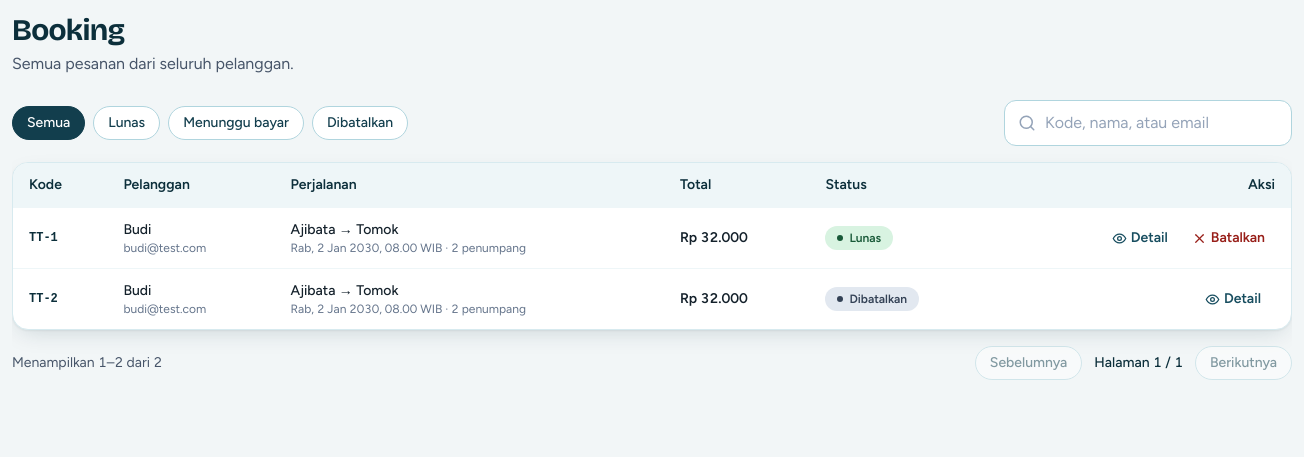
AdminBookingsPage › batalkan gagal menampilkan pesan error
Click the button "Batalkan".
click(1228, 238)  # box [1182,222,1275,254]
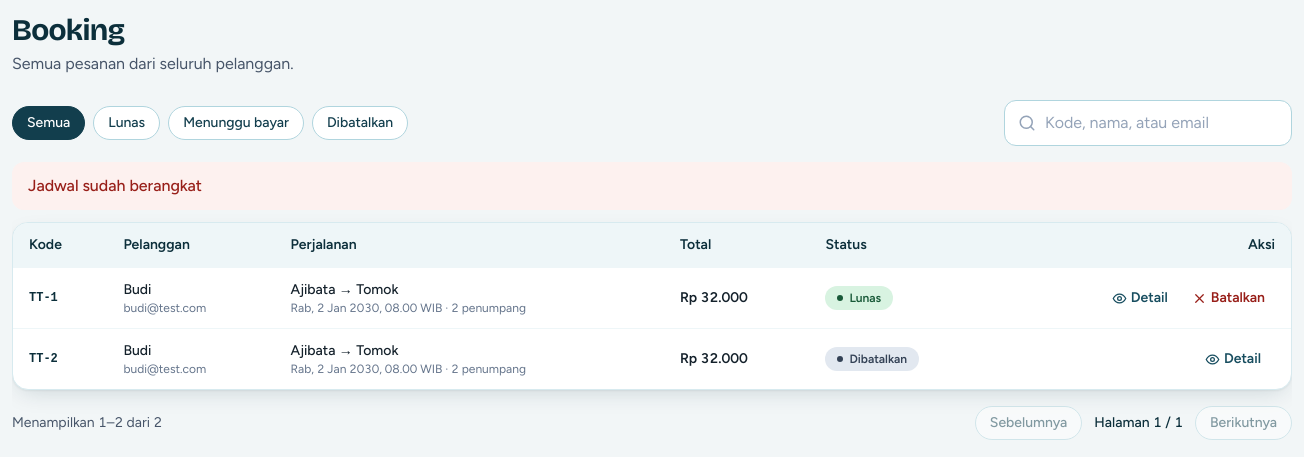
Now the message "Jadwal sudah berangkat" is shown, box [12,162,1292,210]
